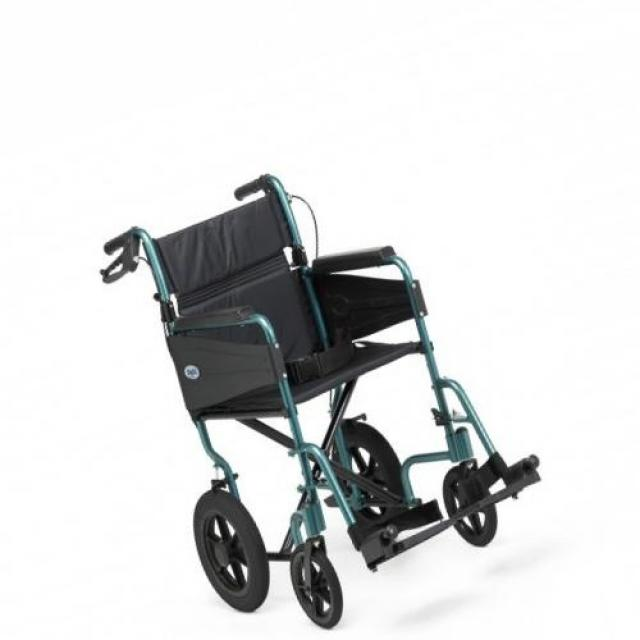wheelchair: (98, 165, 558, 637)
